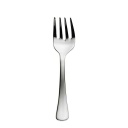fork: (39, 7, 86, 128)
